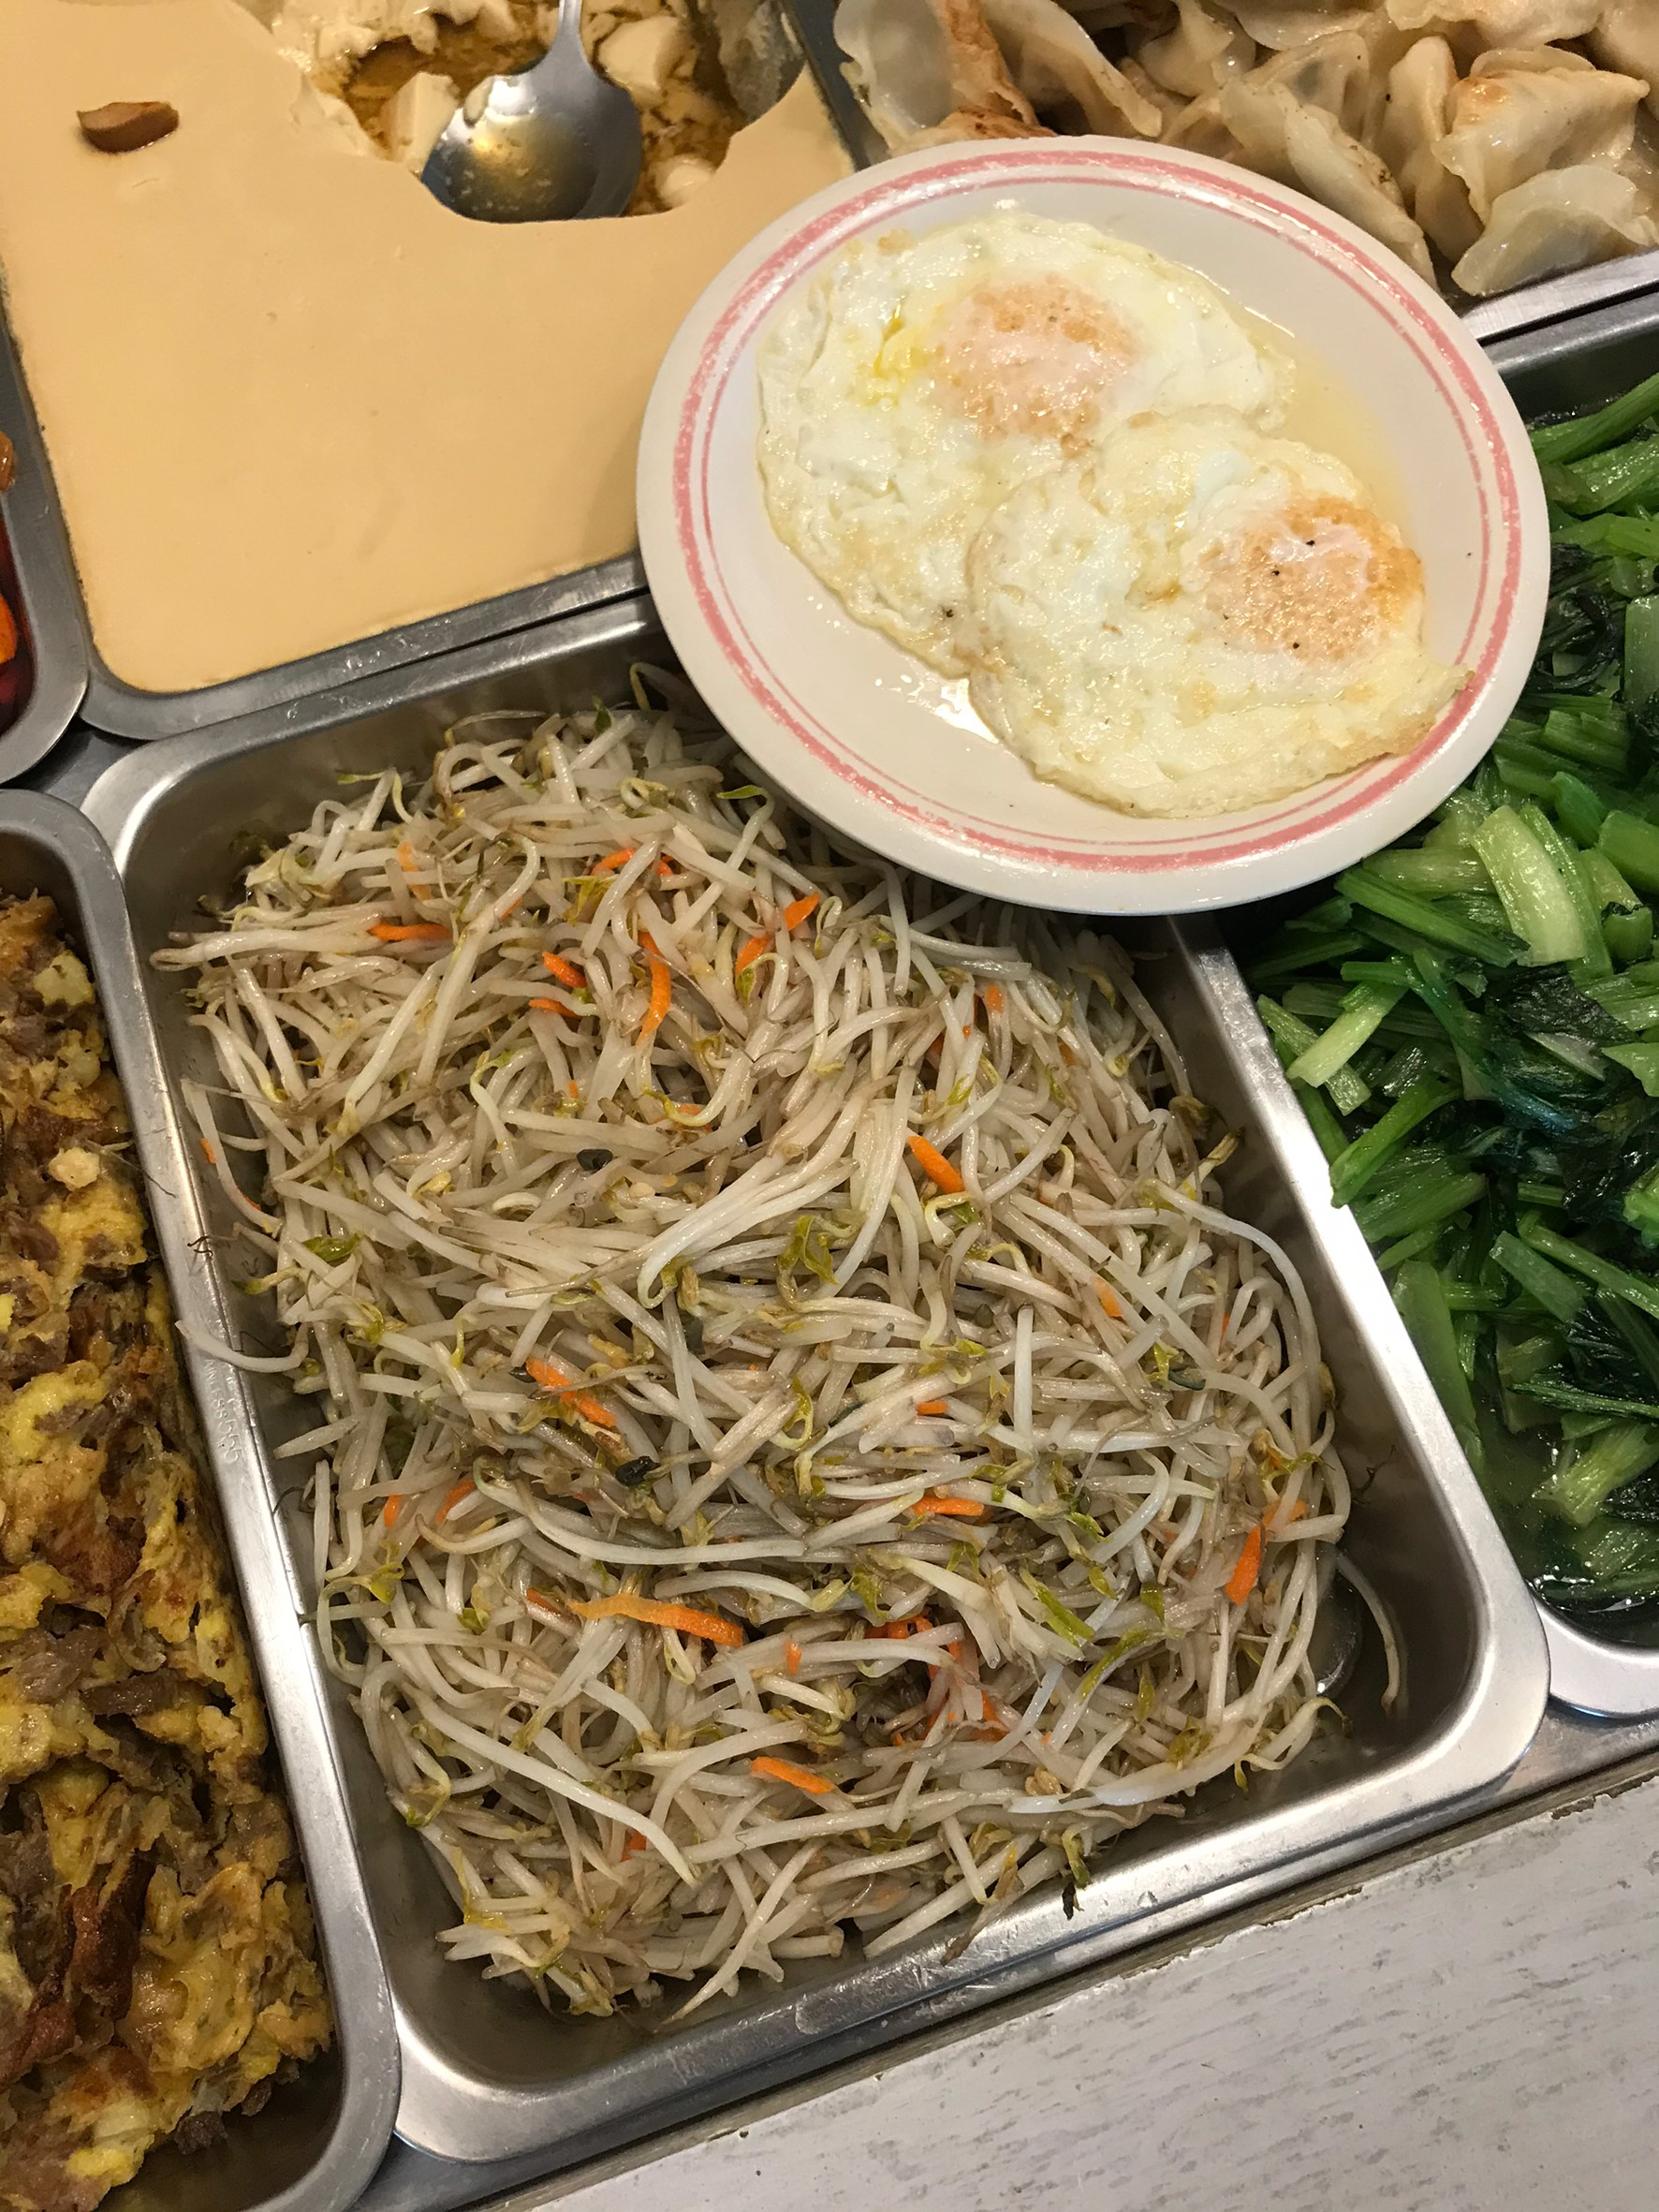fried_dumplings: (995, 2, 1659, 139)
fried_eggs: (770, 234, 1424, 790)
mung_bean_sprouts: (331, 953, 1208, 1862)
water_spinach: (1497, 408, 1659, 1541)
